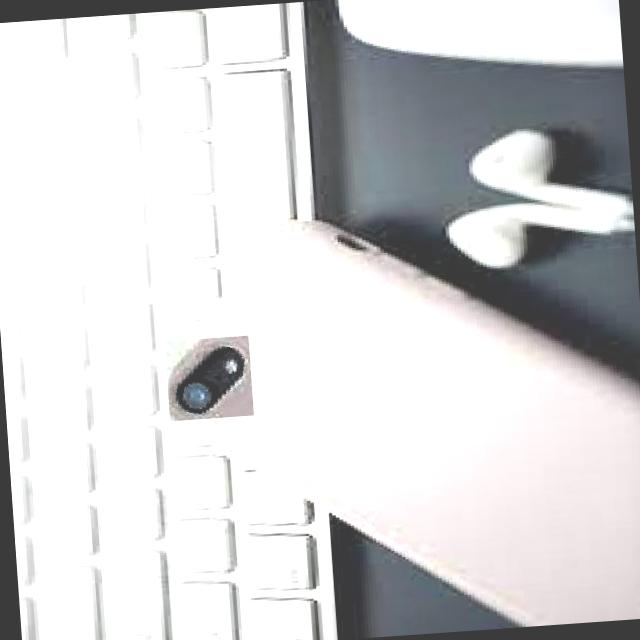lens_back: (170, 374, 218, 416)
phone: (151, 188, 640, 640)
